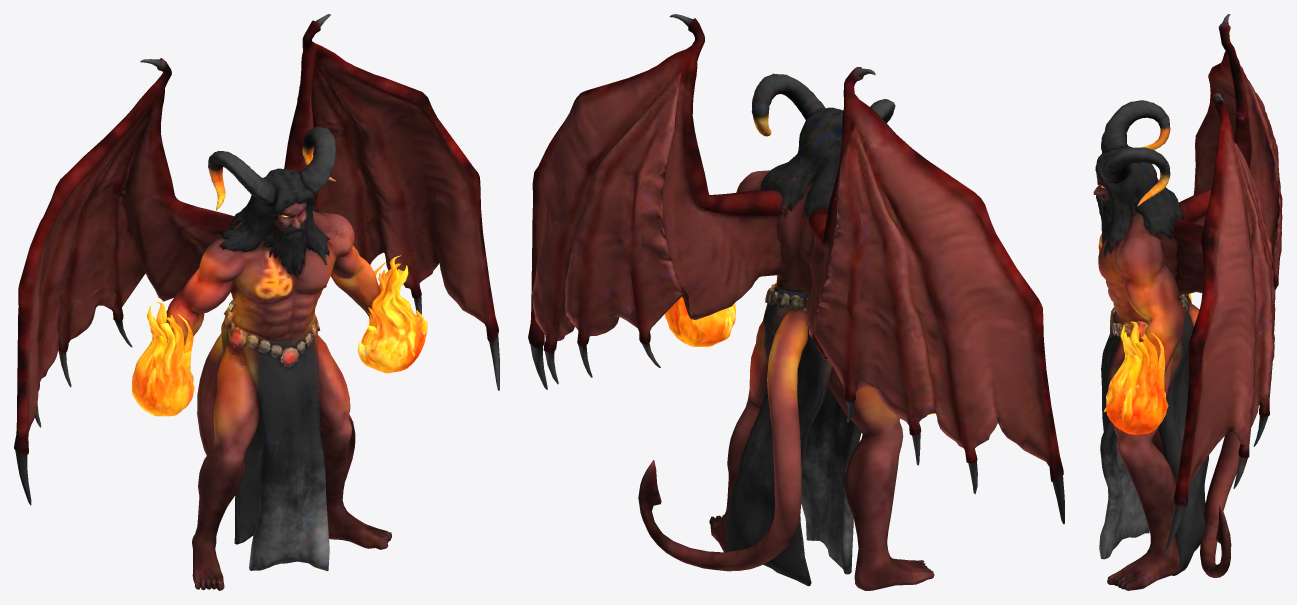
Rendered from MZ4250 - Cambion Male_2025.glb.
3 renders of one model, left to right at view 1: azimuth 30°, elevation 25°; view 2: azimuth 150°, elevation 25°; view 3: azimuth 270°, elevation 25°, orthographic. The views are drawn at different scales.
Visible parts, largest first — view 1: Tiefling Tail 1.001; view 2: Tiefling Tail 1.001; view 3: Tiefling Tail 1.001.
Part boxes in pixels (bbox=[...]): Tiefling Tail 1.001: bbox=[14, 14, 499, 590]; Tiefling Tail 1.001: bbox=[528, 14, 1064, 590]; Tiefling Tail 1.001: bbox=[1093, 14, 1282, 590].
Size of the model in its own units: 121 by 120 by 41.73.
1 material, 1 textured.
